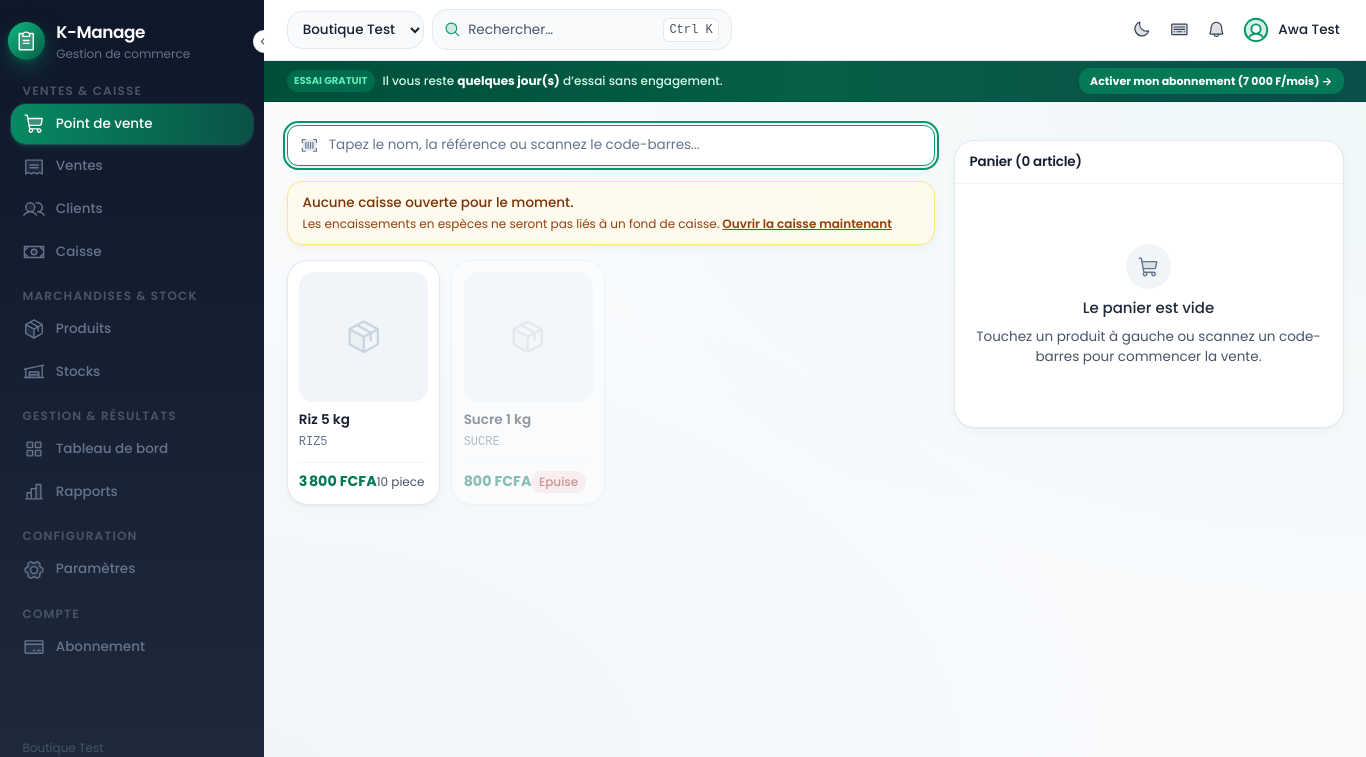
Test case: point de vente › envoie la vente avec une cle d'idempotence, sans aucun total calcule par le navigateur
Click the button named "Riz 5 kgRIZ5".
click(363, 382)  # box [286,260,440,505]
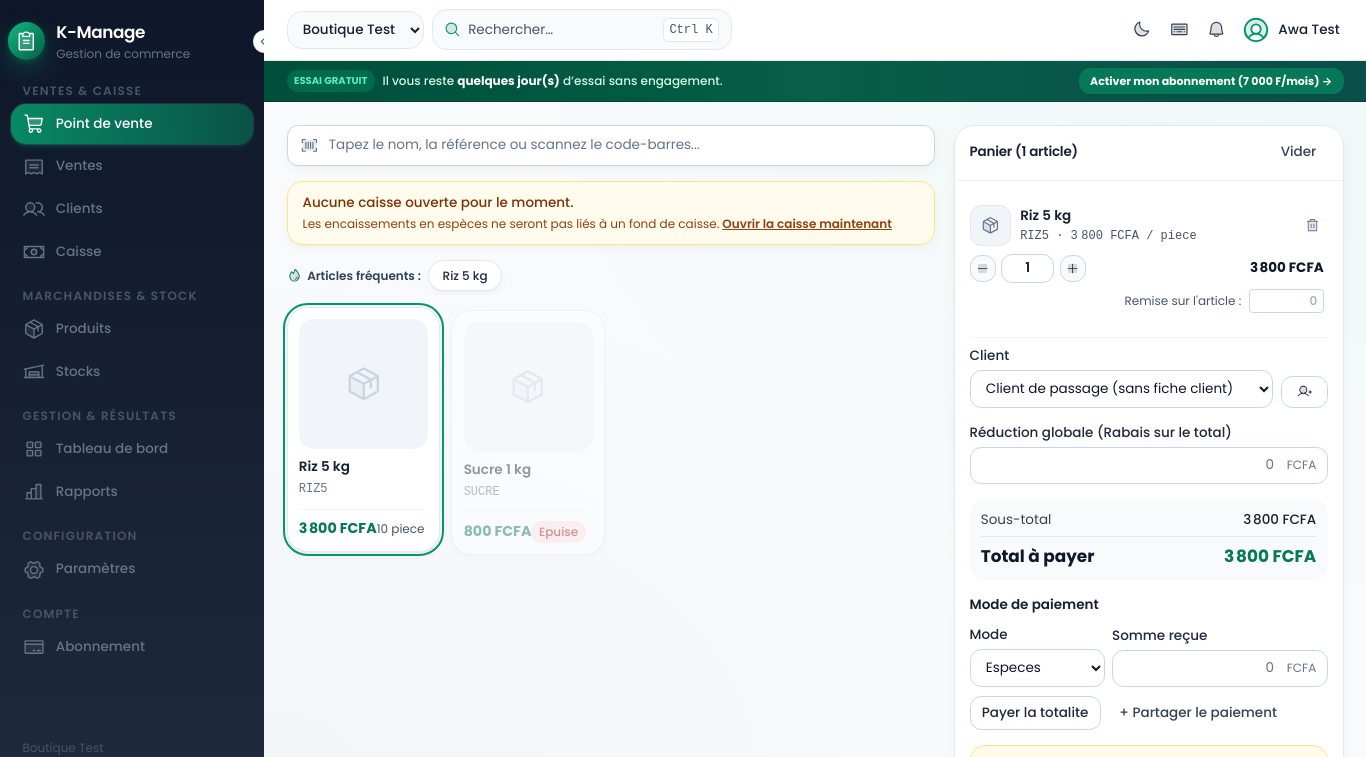
Click the button "Payer la totalite".
click(1035, 713)  # box [970,696,1101,730]
(page scrolled)
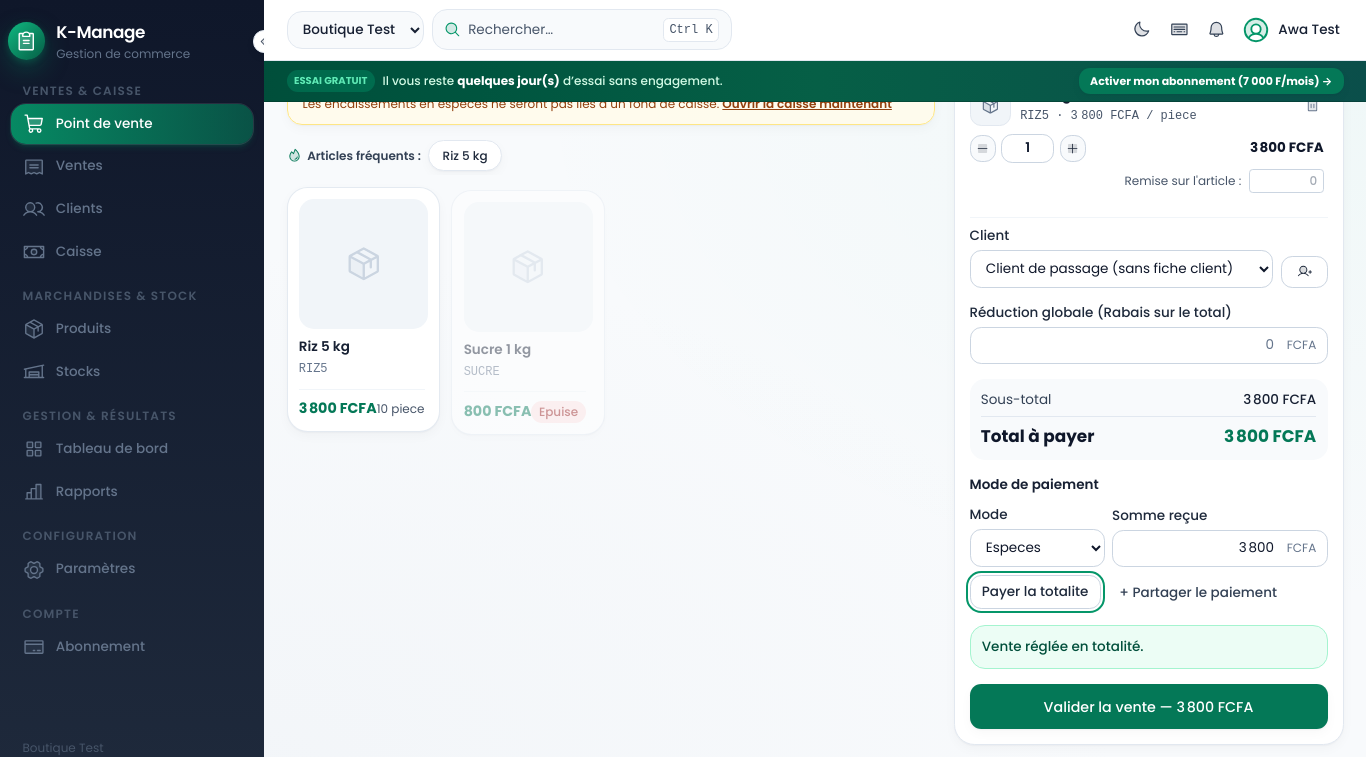
Click the button "Valider la vente — 3 800 FCFA".
click(1148, 707)  # box [970,684,1328,729]
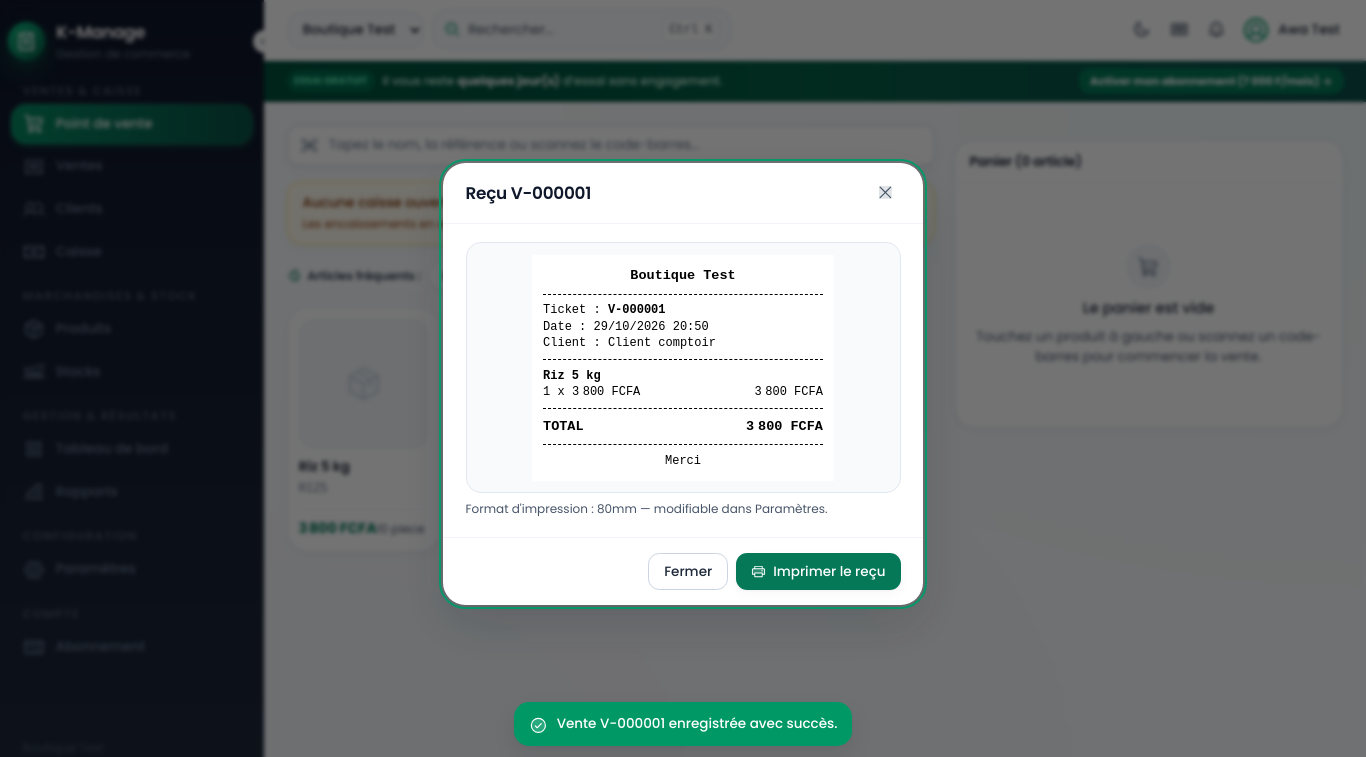
Check: the dialog named "Recu V-000001" is shown, box [443,163,923,605]
